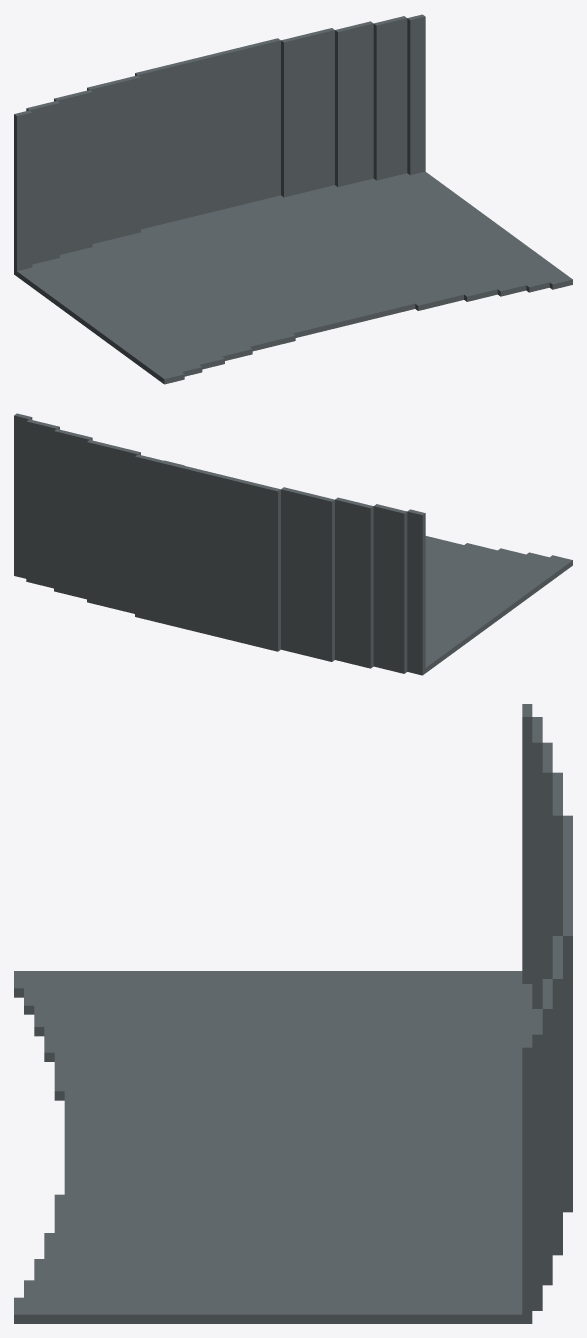
Rendered from globus_central_overtile.obj.
3 views of the same model, one above another, from view 1: azimuth 30°, elevation 25°; view 2: azimuth 150°, elevation 25°; view 3: azimuth 270°, elevation 25° (orthographic). The views are drawn at different scales.
Size of the model in its own units: 8 by 3 by 5.5.
Materials: 1 (1 with a texture image).
